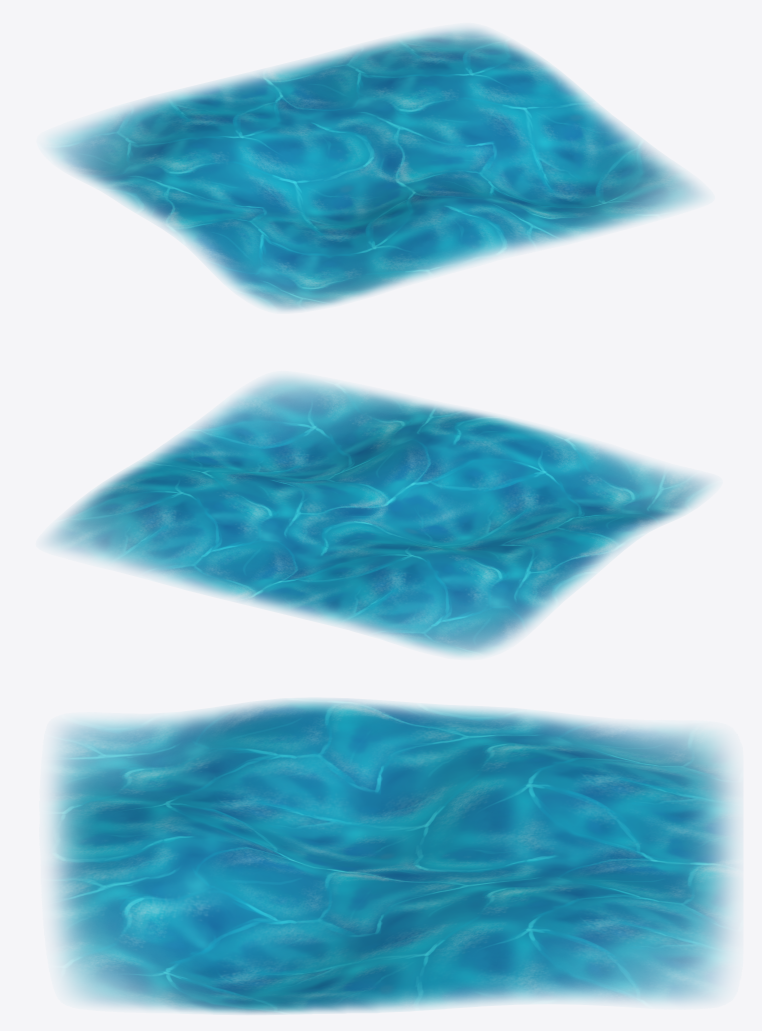
The model's file is water.glb.
3 renders of one model, top to bottom at view 1: azimuth 30°, elevation 25°; view 2: azimuth 150°, elevation 25°; view 3: azimuth 270°, elevation 25°, orthographic. The views are drawn at different scales.
Visible parts, largest first — view 1: Plane; view 2: Plane; view 3: Plane.
Boxes of the visible parts, x1=… form: Plane: x1=50, y1=28, x2=700, y2=310; Plane: x1=49, y1=377, x2=710, y2=655; Plane: x1=50, y1=699, x2=735, y2=1013.
Size of the model in its own units: 1166 by 106 by 1166.
Materials: 1 (1 with a texture image).
